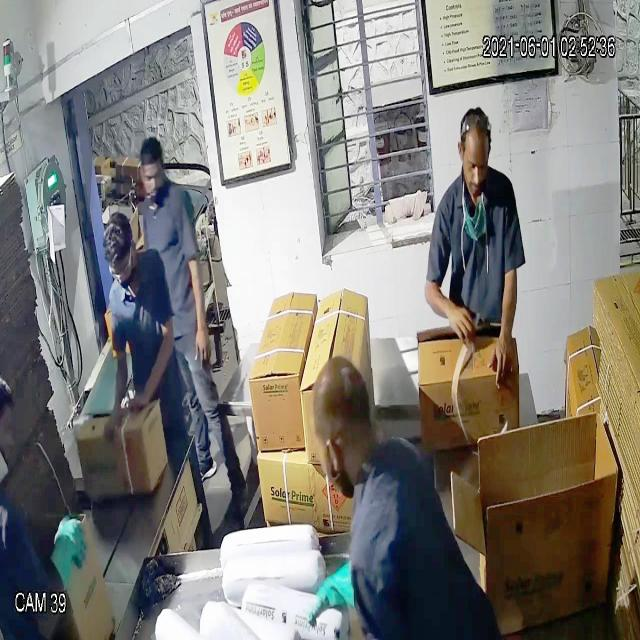glasses: (106, 246, 136, 287)
no-glass: (456, 143, 496, 181)
